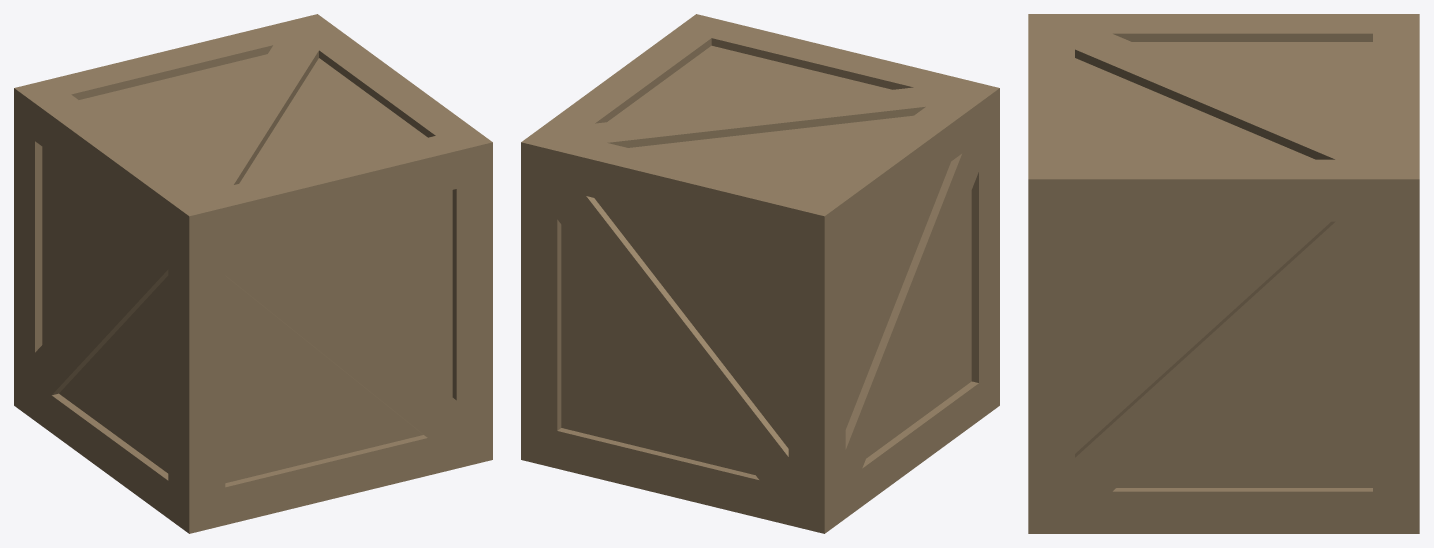
The model's file is wooden_crate.fbx.
3 views of the same model, side by side, from view 1: azimuth 30°, elevation 25°; view 2: azimuth 150°, elevation 25°; view 3: azimuth 270°, elevation 25° (orthographic). The views are drawn at different scales.
Parts seen in each view (by area): view 1: Crate; view 2: Crate; view 3: Crate.
Part boxes in pixels (x1=…): Crate: x1=14, y1=14, x2=492, y2=533; Crate: x1=521, y1=14, x2=999, y2=533; Crate: x1=1028, y1=14, x2=1419, y2=533.
Size of the model in its own units: 210 by 210 by 210.
